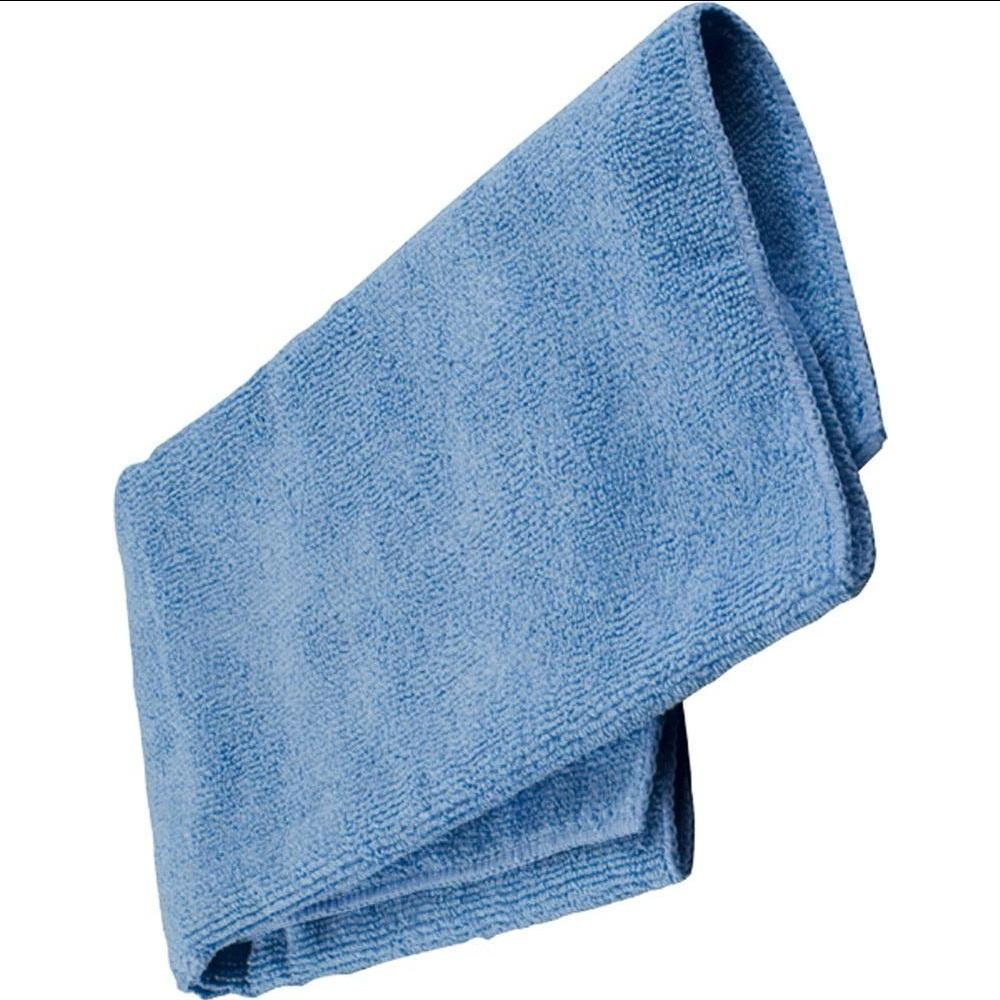towel: (12, 5, 1000, 1000)
